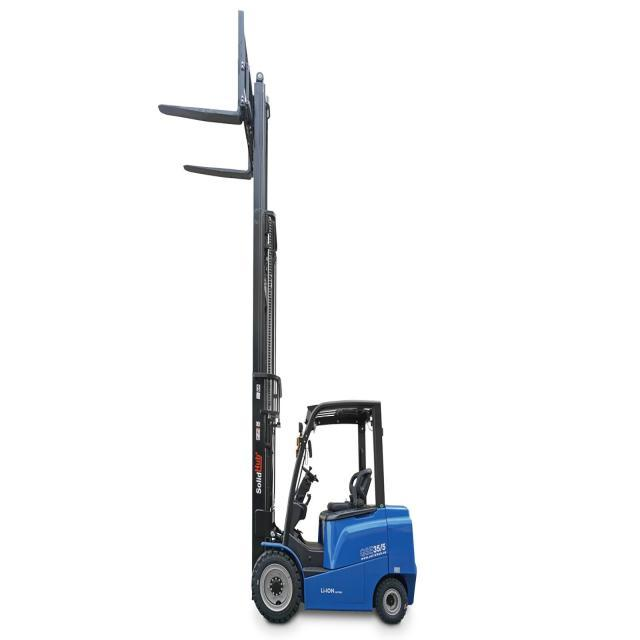forklift: (244, 370, 418, 630)
